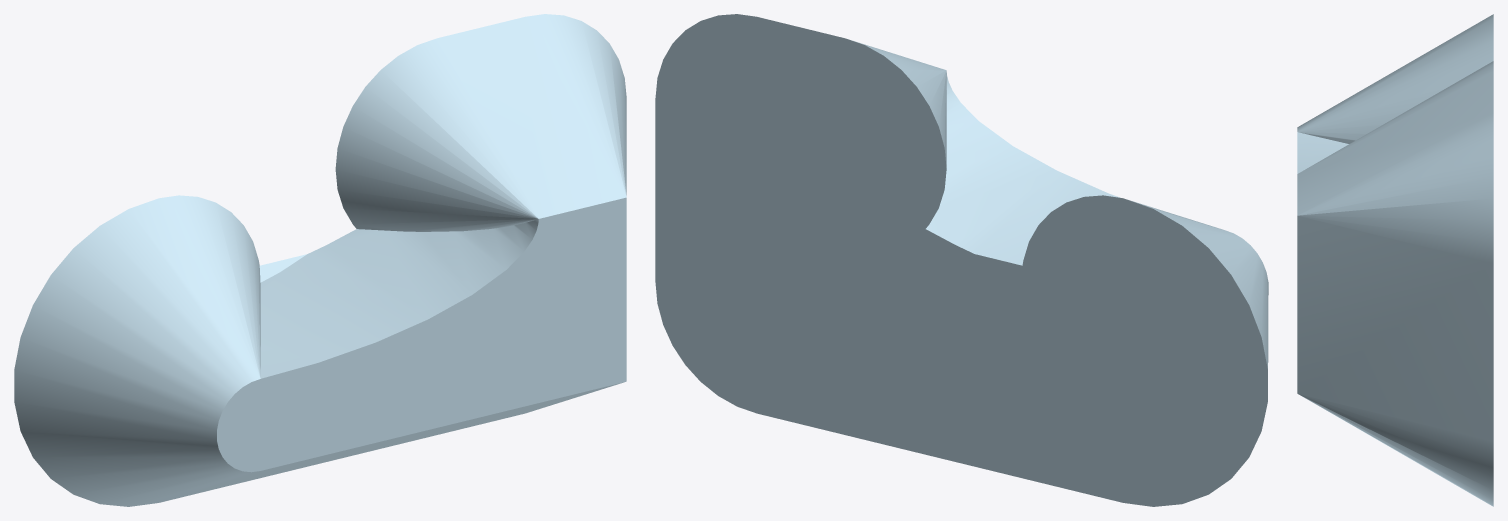
The model's file is Engrave3.glb.
The picture shows the model from 3 angles, left to right: view 1: azimuth 30°, elevation 25°; view 2: azimuth 150°, elevation 25°; view 3: azimuth 270°, elevation 25°; orthographic projection. The views are drawn at different scales.
Visible parts, largest first — view 1: Part 1; view 2: Part 1; view 3: Part 1.
Part boxes in pixels (x1,y1,x2,y2): Part 1: [14, 14, 626, 506]; Part 1: [655, 14, 1268, 506]; Part 1: [1297, 14, 1493, 506].
Bounding box in the file's own units: 0.0884 × 0.0547 × 0.0254.
